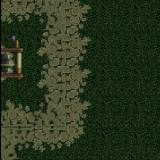Hide: (0, 21, 41, 106)
